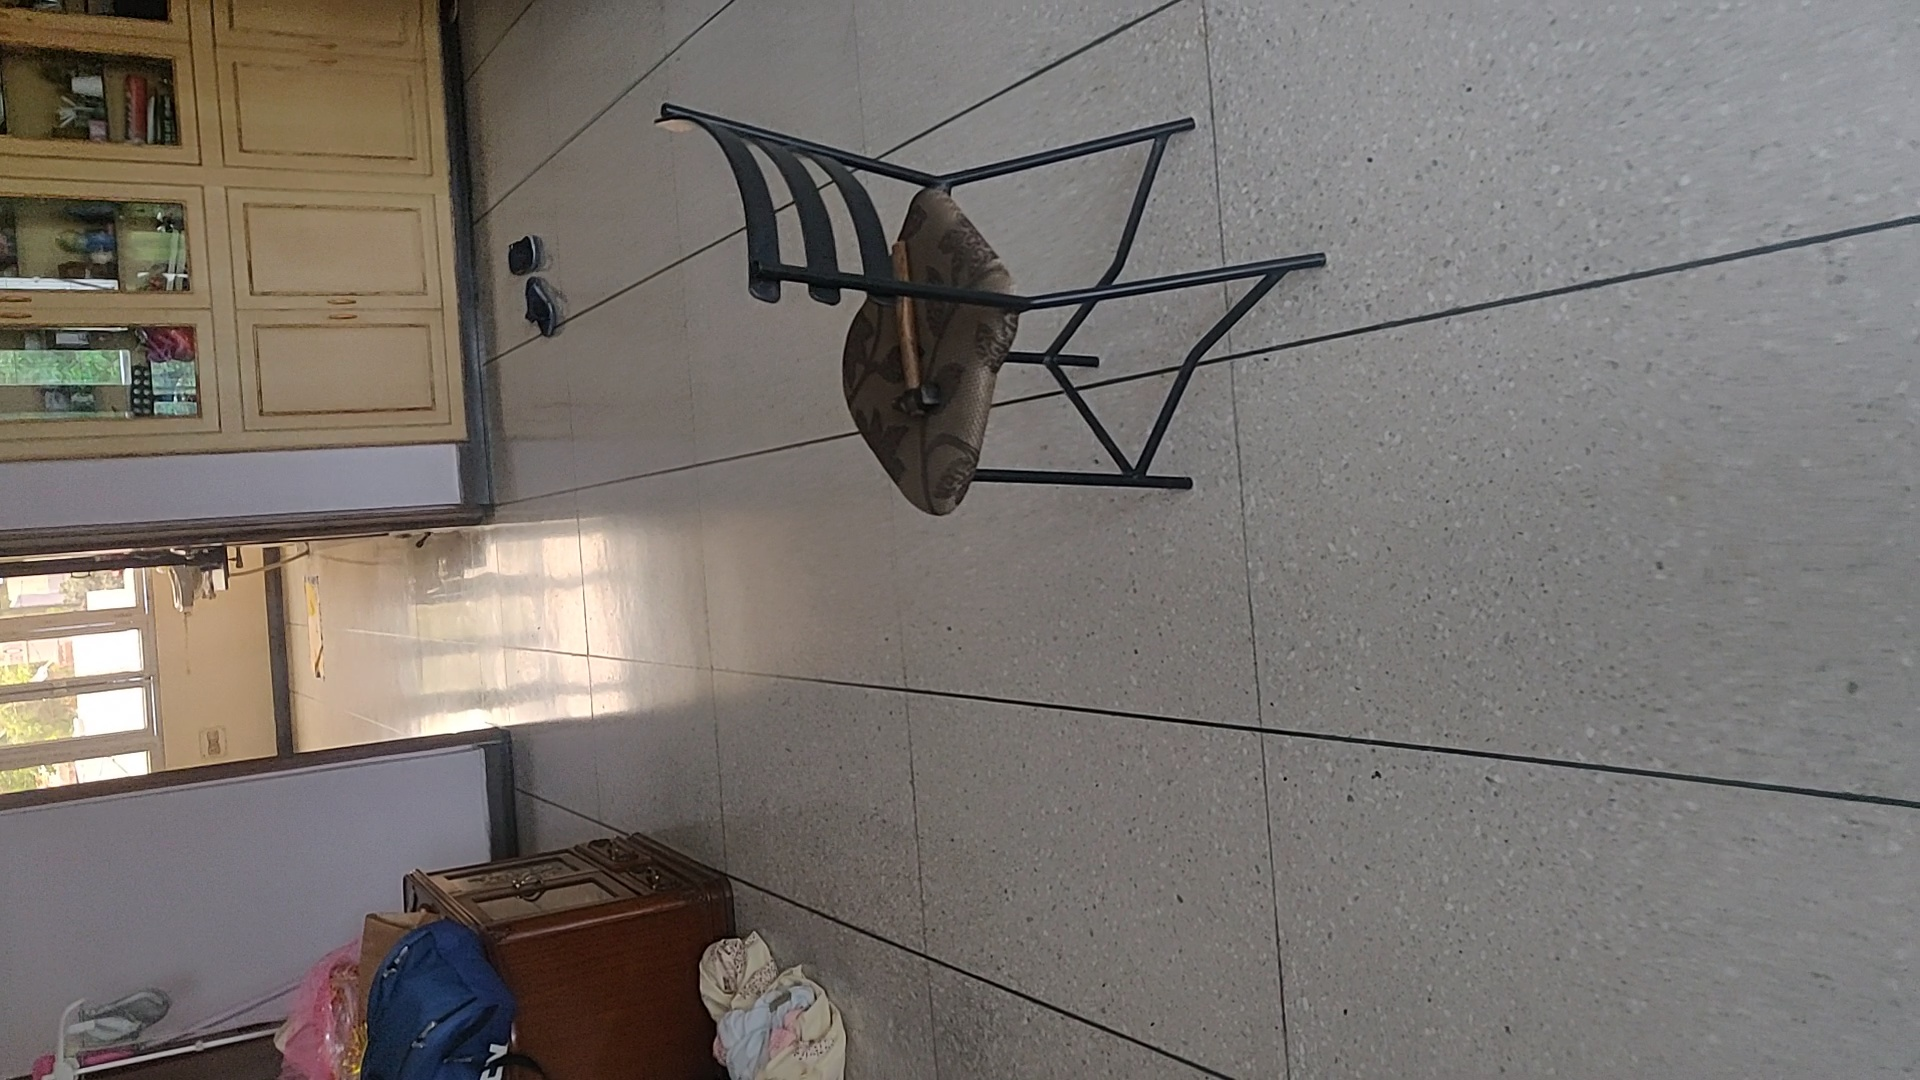hammer: (891, 239, 945, 421)
